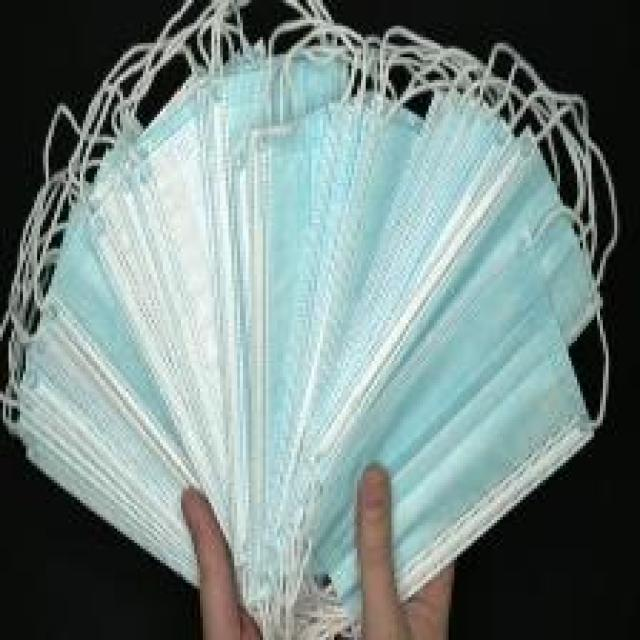Mask: (8, 34, 640, 614)
